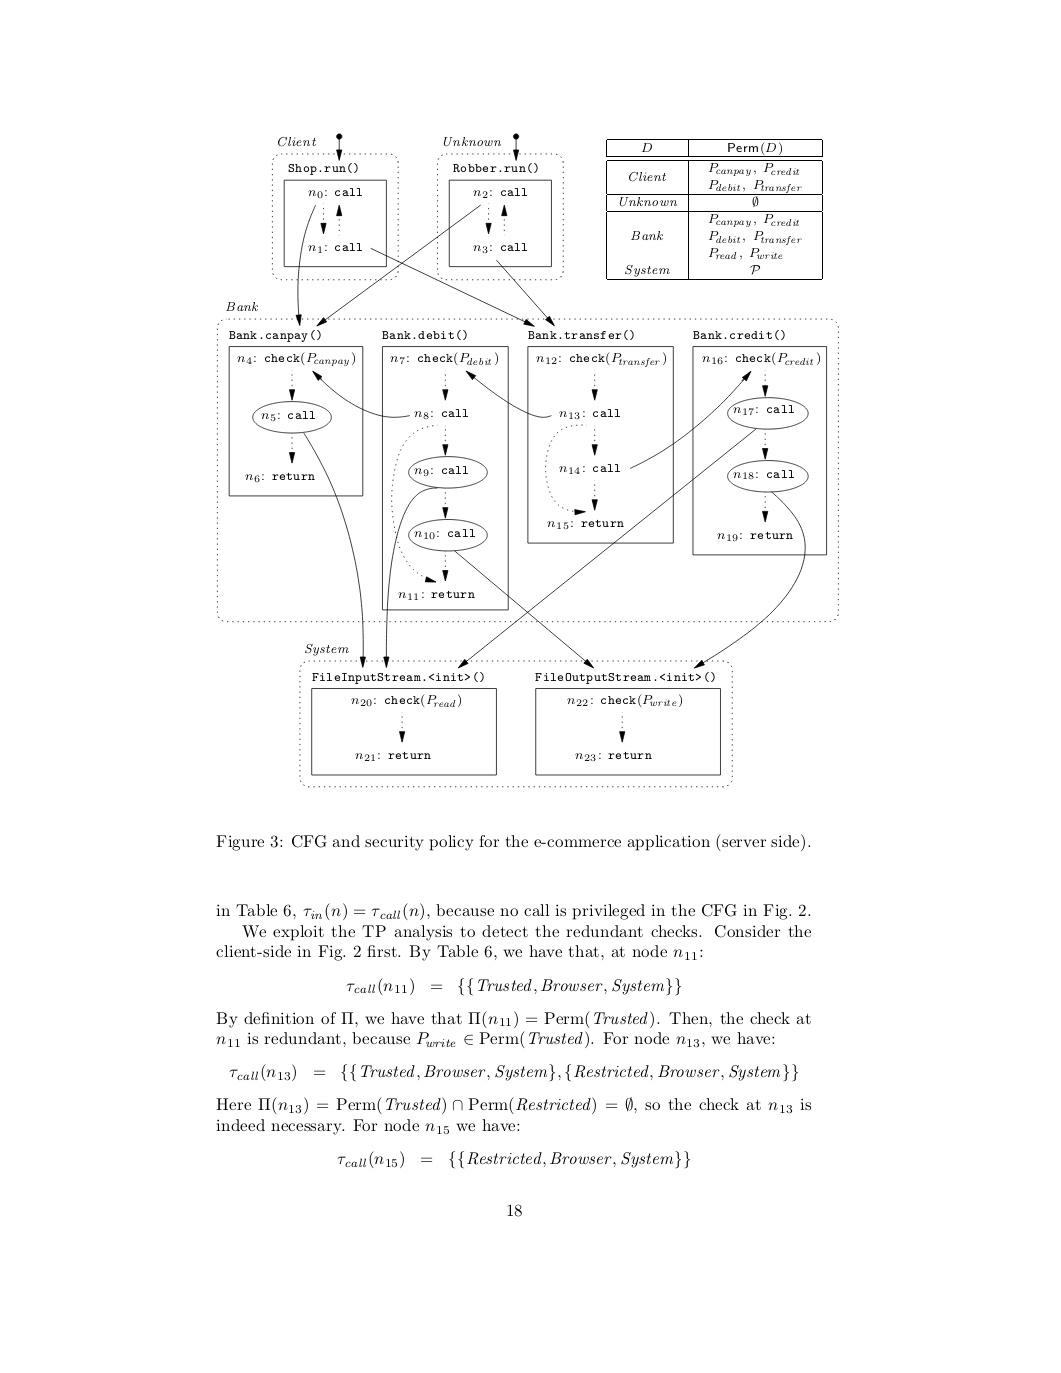figure: (216, 133, 838, 787)
formula: (228, 1062, 797, 1082), (337, 1150, 689, 1169), (345, 977, 680, 996)
